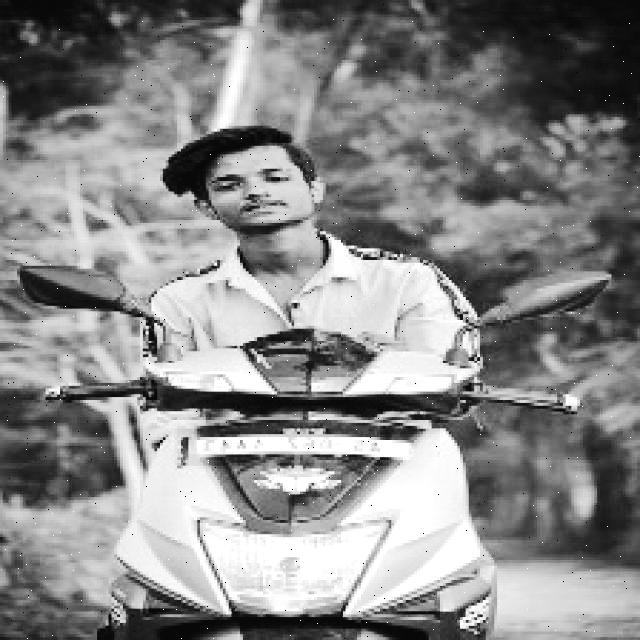Bike: (140, 324, 522, 639)
